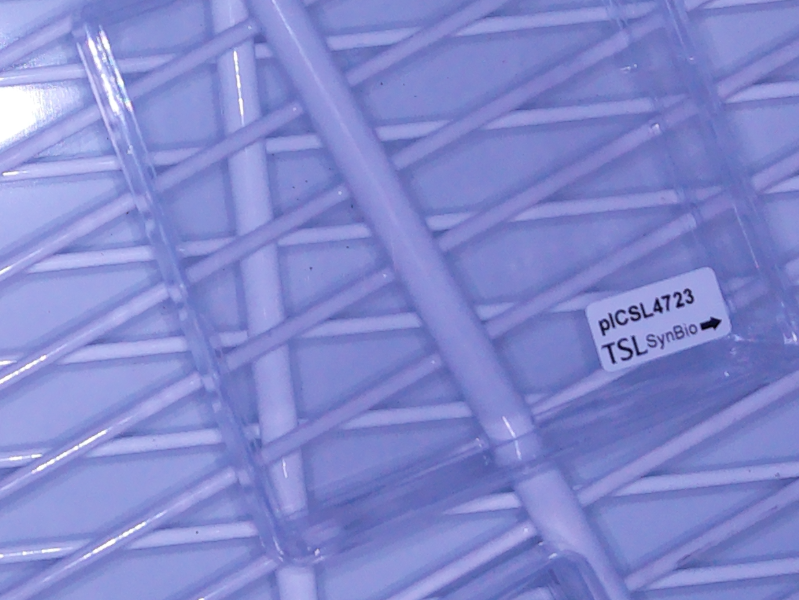plate: (66, 1, 799, 568), (443, 540, 617, 600)
